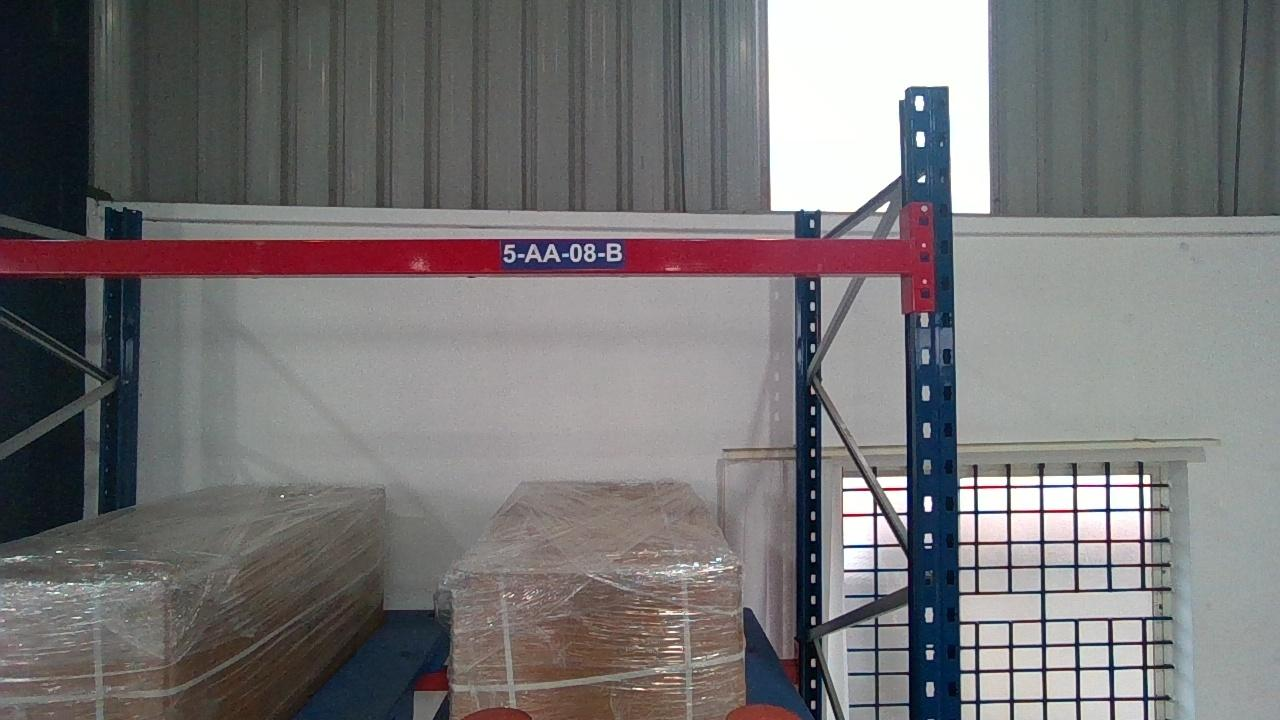h_rack: (1, 235, 911, 277)
